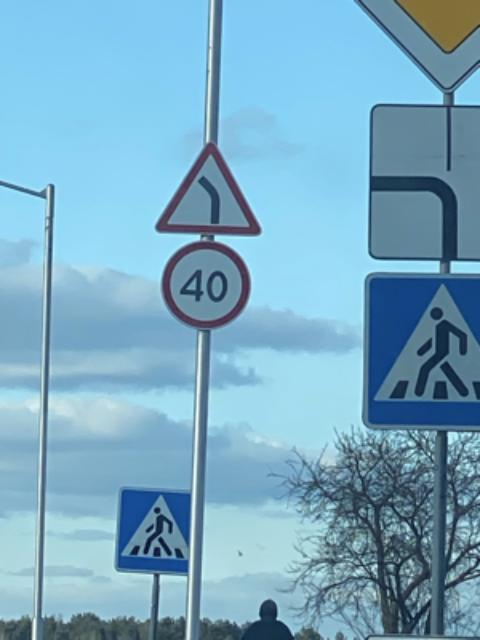crosswalk-sign: (361, 270, 479, 433), (119, 484, 195, 576)
